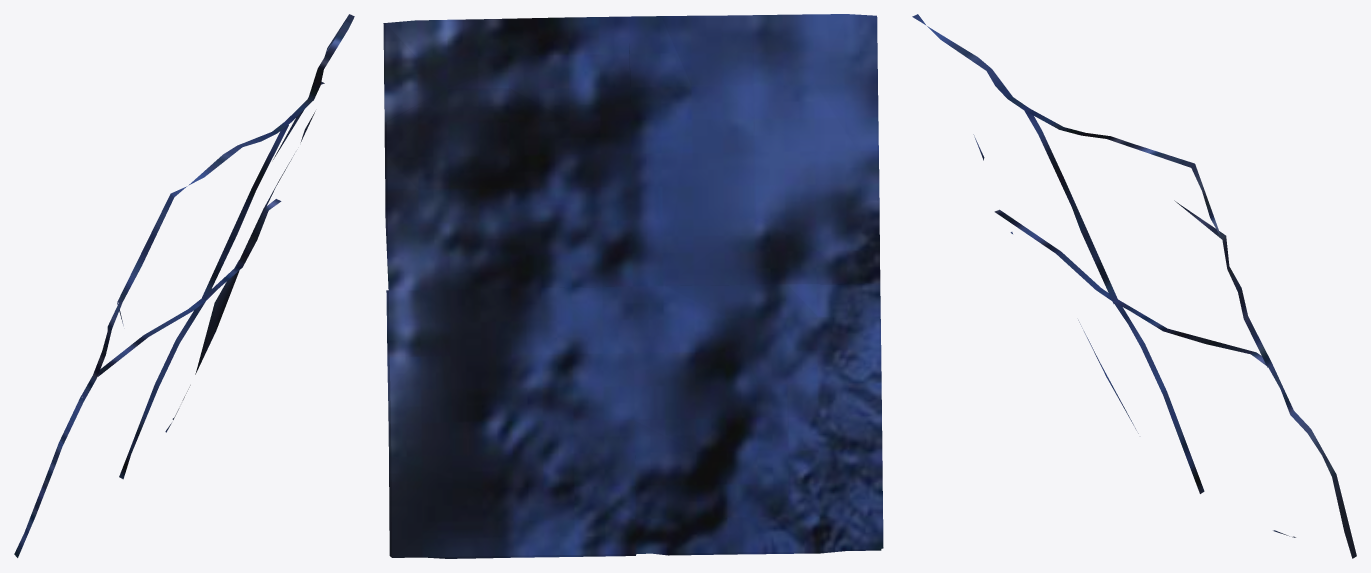
3 views of the same model, side by side, from view 1: azimuth 30°, elevation 25°; view 2: azimuth 150°, elevation 25°; view 3: azimuth 270°, elevation 25° (orthographic). The views are drawn at different scales.
Bounding box in the file's own units: 37317 × 38057 × 33774.
Materials: 1 (1 with a texture image).
